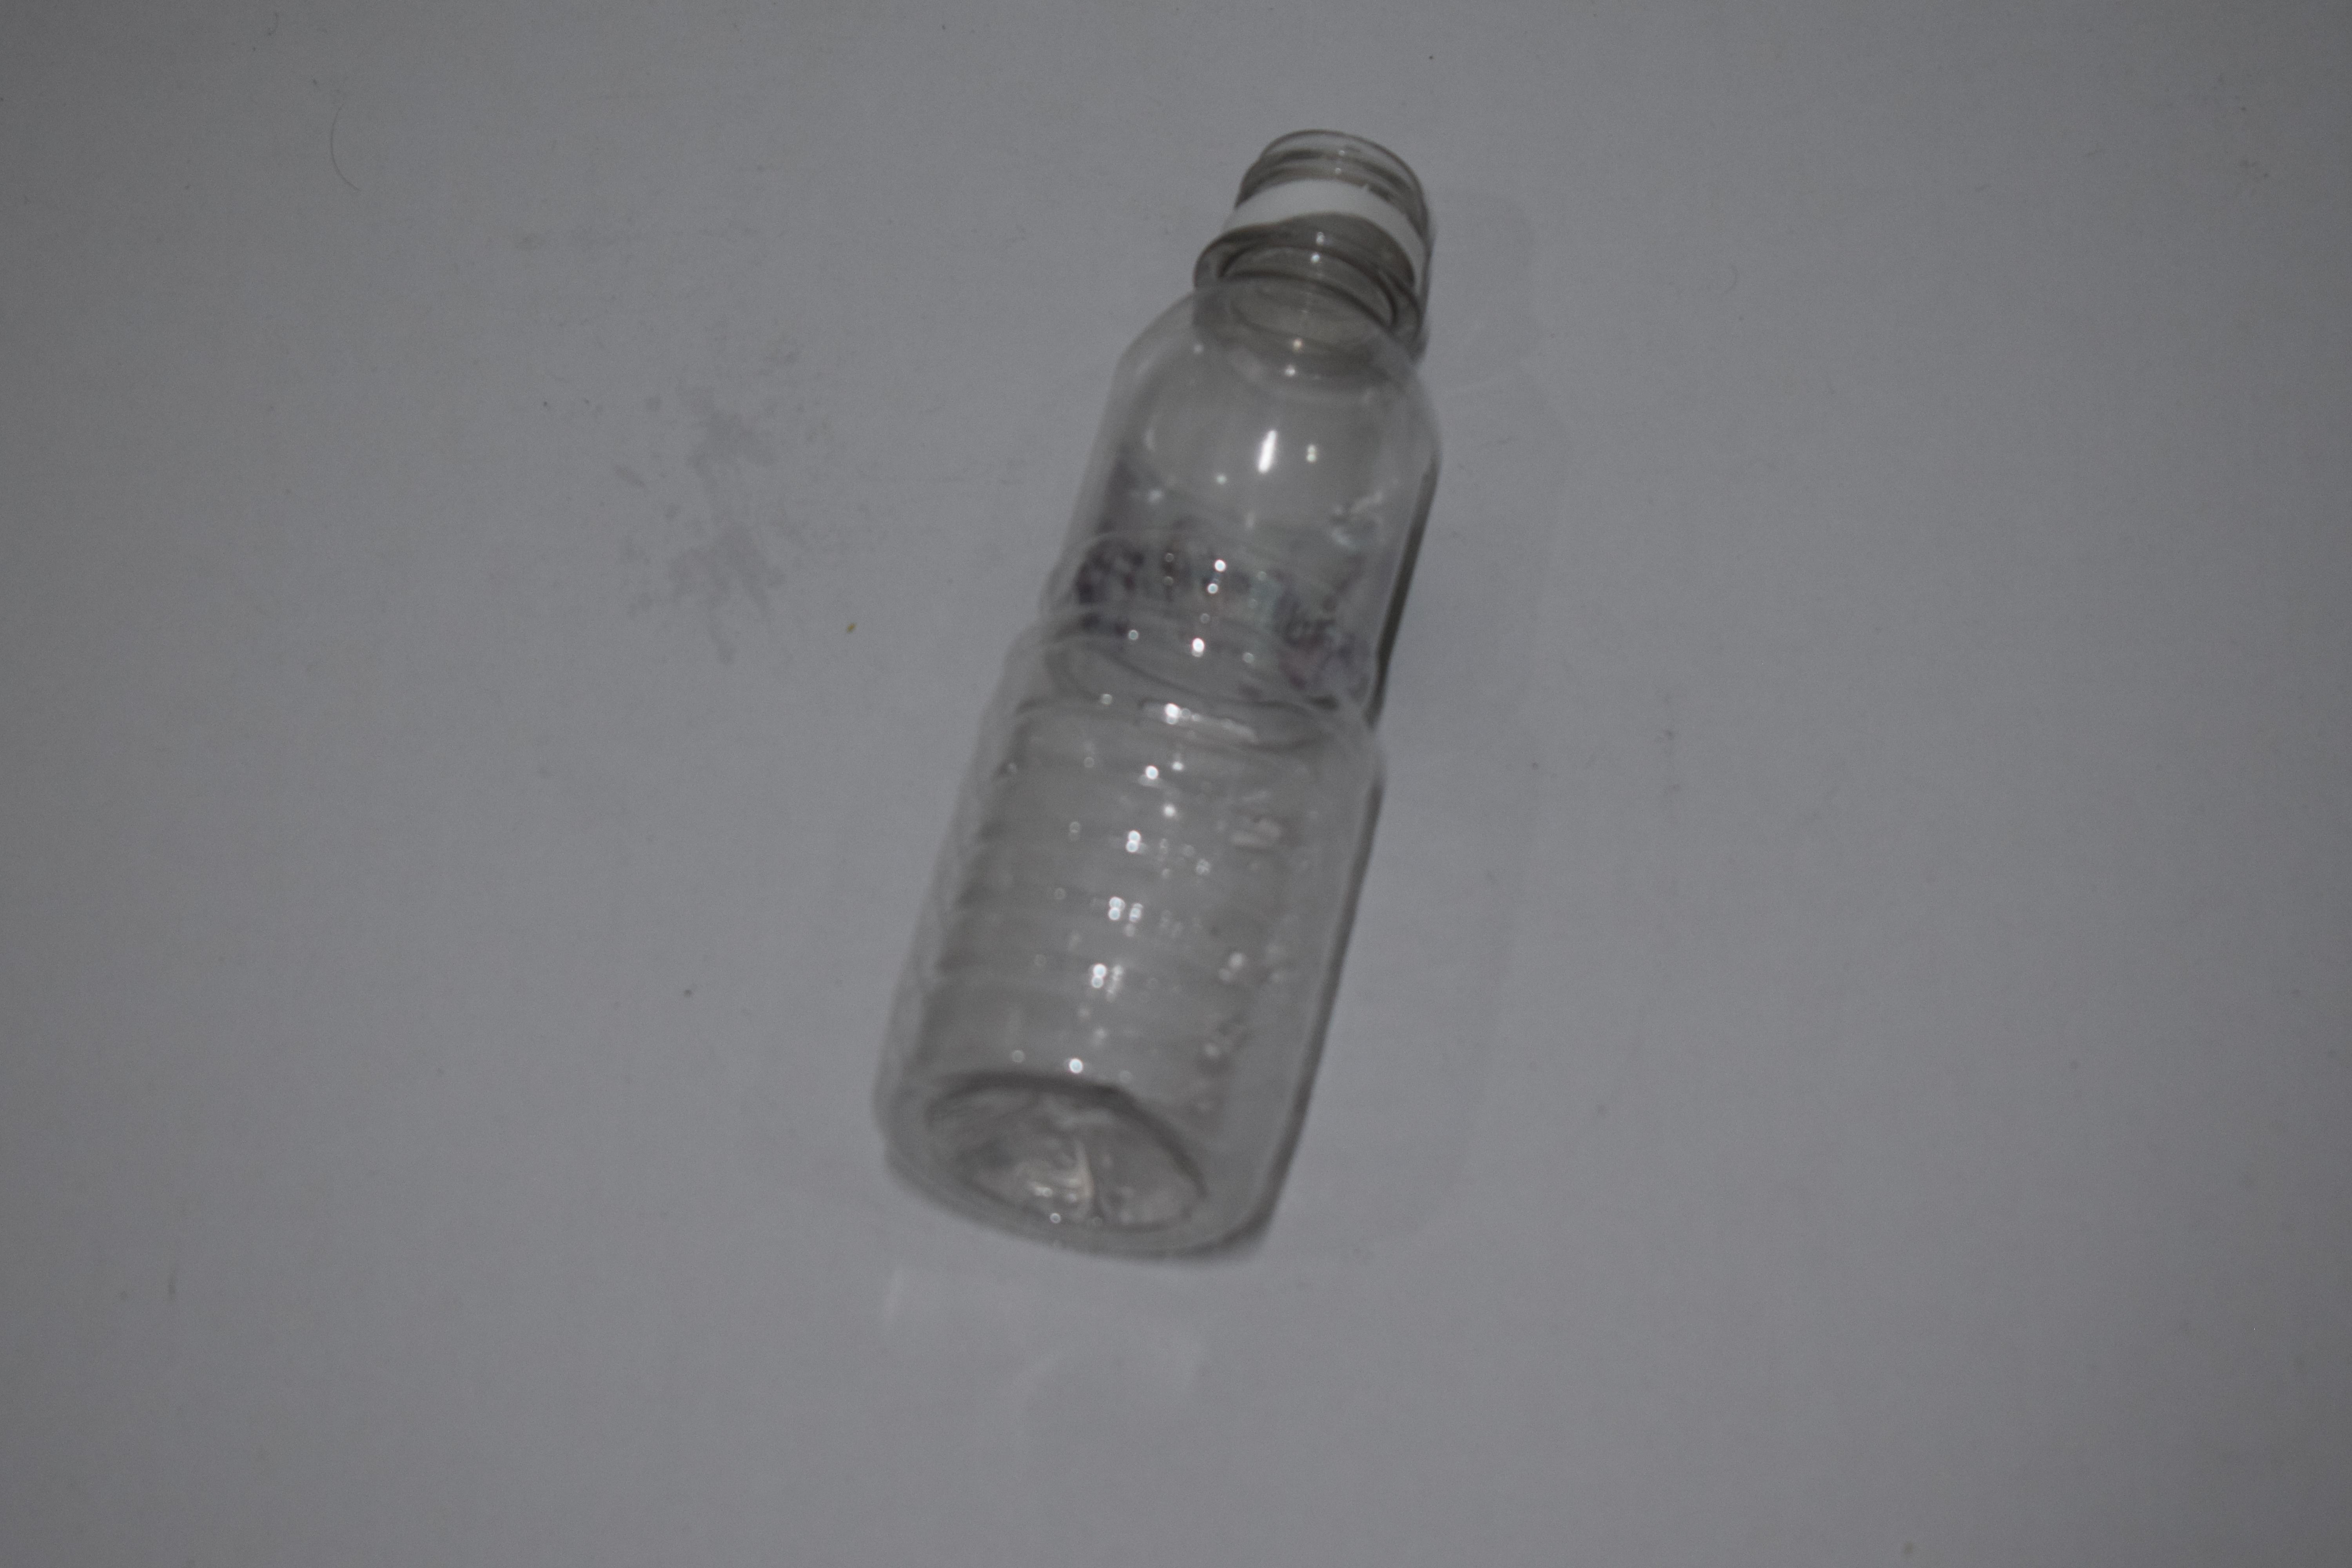bottle: (870, 117, 1451, 1262)
